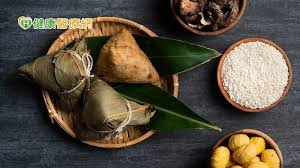zongzi: (17, 39, 93, 110), (79, 77, 150, 139), (94, 29, 160, 86)
